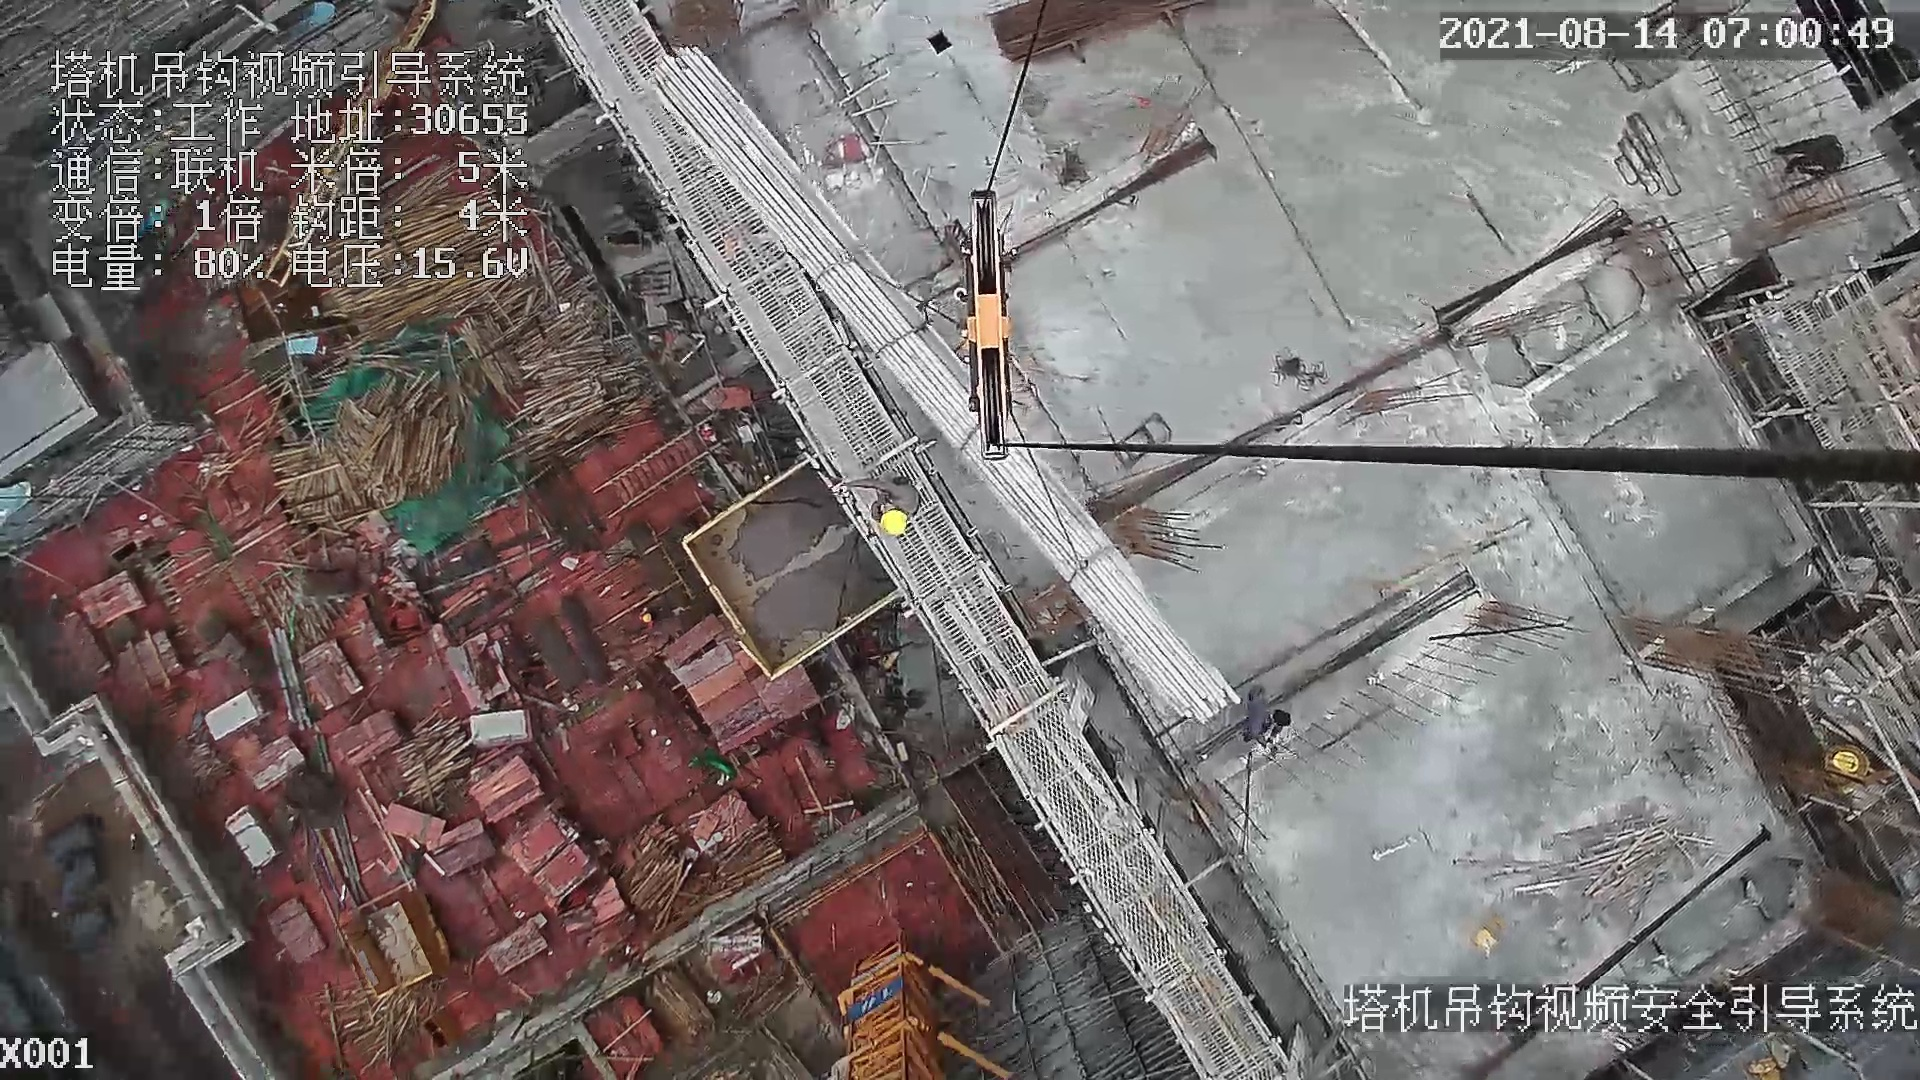helmet: (882, 505, 911, 539)
hook: (963, 187, 1023, 467)
person: (838, 477, 919, 541), (1240, 686, 1291, 763)
